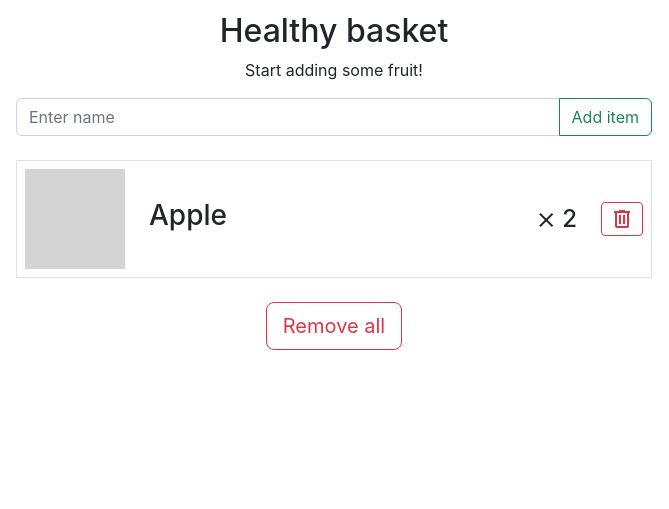
Scenario: Basket › should show added items after page reload
In the field with test id "form-input": {"x": 288, "y": 117} x1=16 y1=98 x2=560 y2=136, type "apple"
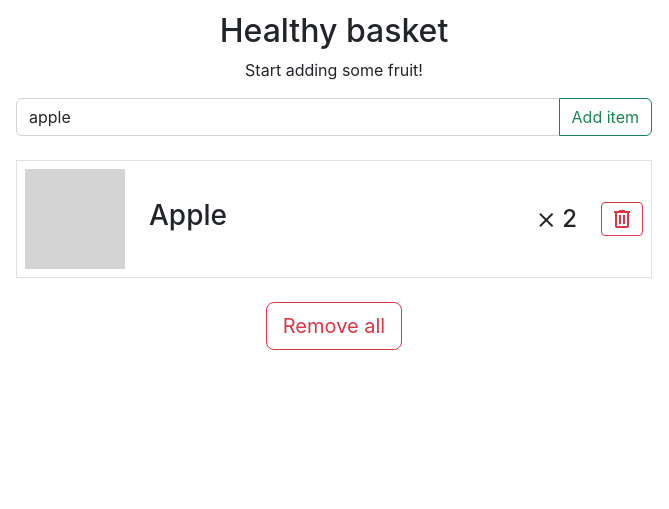
Click the button with test id "form-submit-button": {"x": 605, "y": 117} x1=559 y1=98 x2=652 y2=136
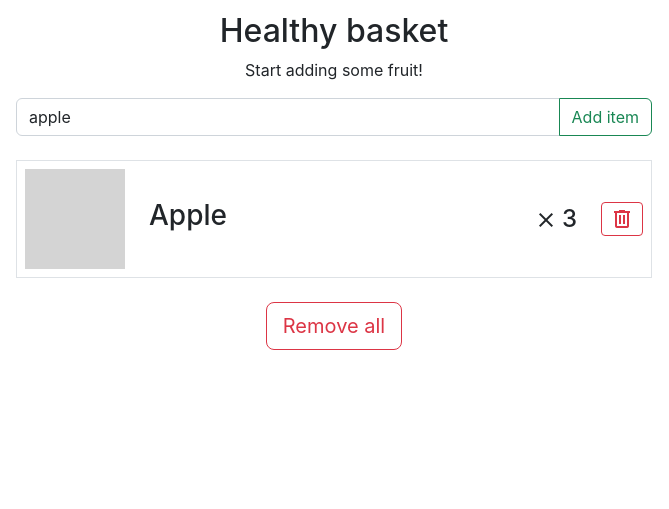
Expected: the text "apple" is shown, x1=149 y1=199 x2=227 y2=232
Replace the text in the field with test id "form-input" with "pear": {"x": 288, "y": 117} x1=16 y1=98 x2=560 y2=136
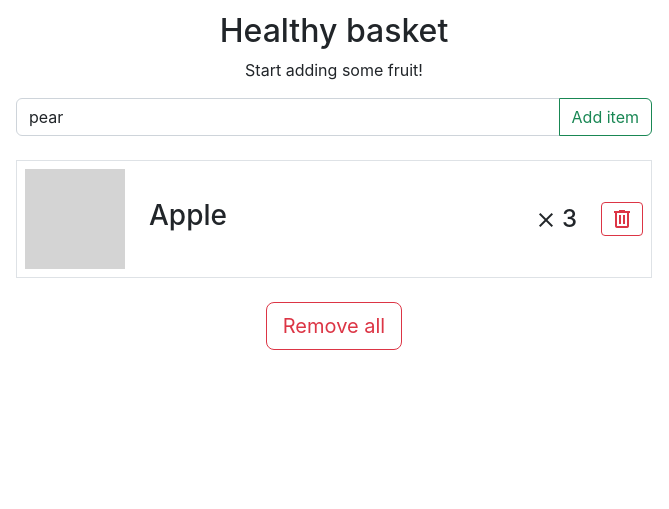
Click the button with test id "form-submit-button": {"x": 605, "y": 117} x1=559 y1=98 x2=652 y2=136
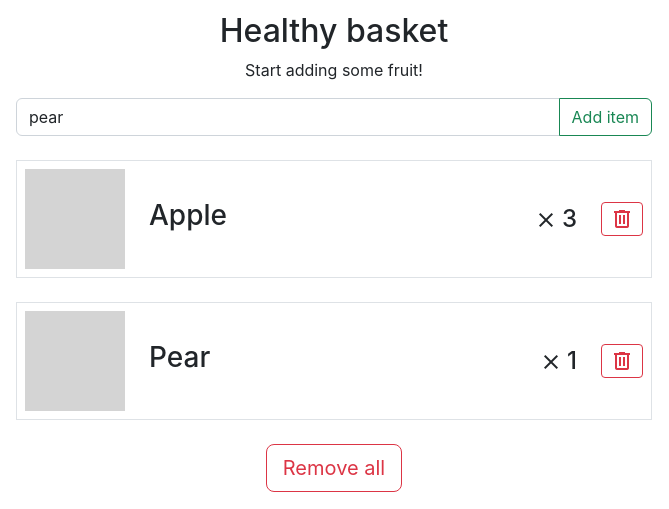
Expected: the text "apple" is shown, x1=149 y1=199 x2=227 y2=232
Expected: the text "pear" is shown, x1=149 y1=341 x2=210 y2=374
